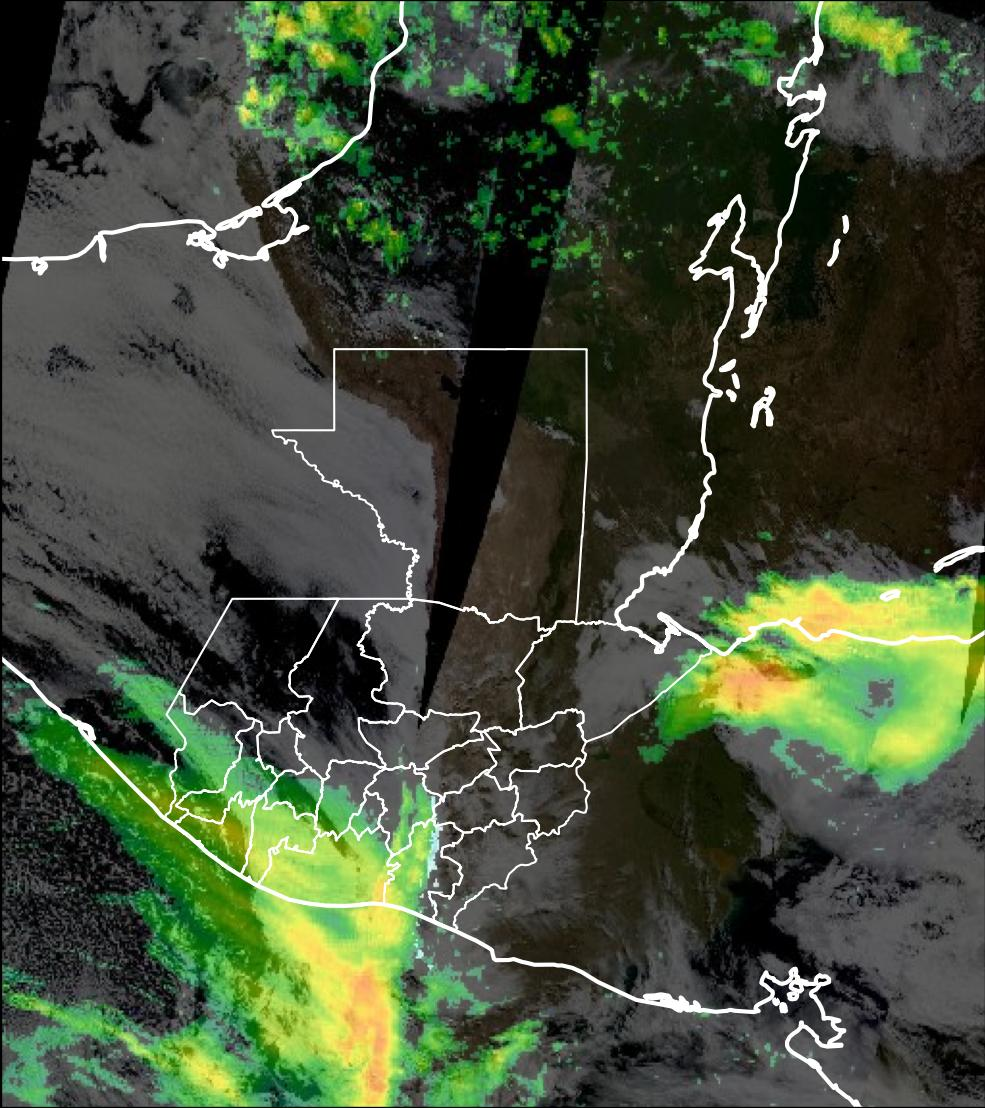precipitacion: (288, 927, 399, 1108), (689, 644, 826, 730)
